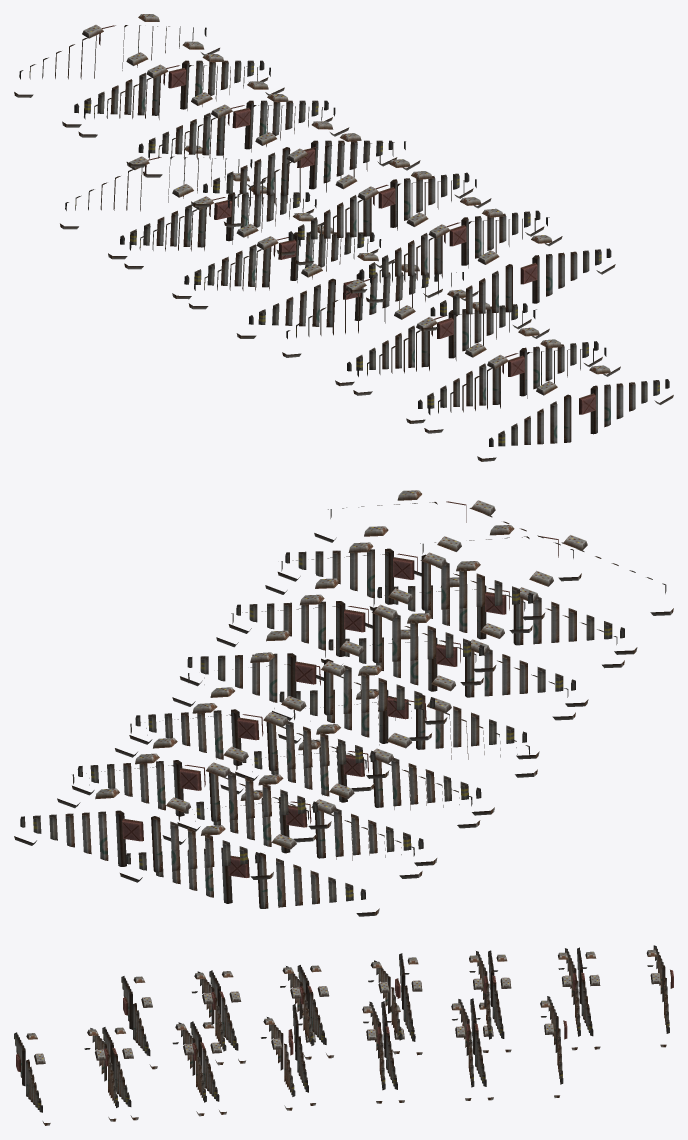
File: prop_static_tan_container_01_04.glb
3 renders of one model, top to bottom at view 1: azimuth 30°, elevation 25°; view 2: azimuth 150°, elevation 25°; view 3: azimuth 270°, elevation 25°, orthographic. The views are drawn at different scales.
Visible parts, largest first — view 1: tan_container_01_04_LOD0; view 2: tan_container_01_04_LOD0; view 3: tan_container_01_04_LOD0.
Part boxes in pixels (x1,y1,x2,y2): tan_container_01_04_LOD0: [14, 14, 673, 461]; tan_container_01_04_LOD0: [14, 490, 673, 916]; tan_container_01_04_LOD0: [14, 945, 673, 1125].
Size of what is drawn, in the model's own units: 6.43 by 2.81 by 15.57.
1 material, 1 textured.
